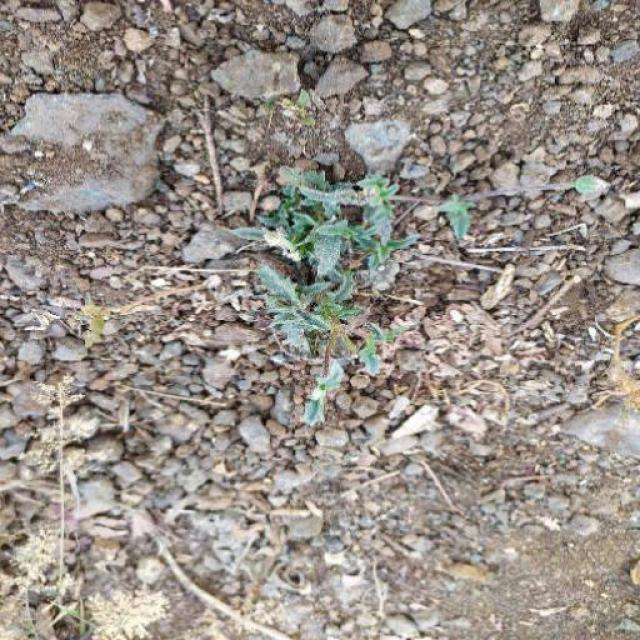weed: (249, 160, 481, 376)
